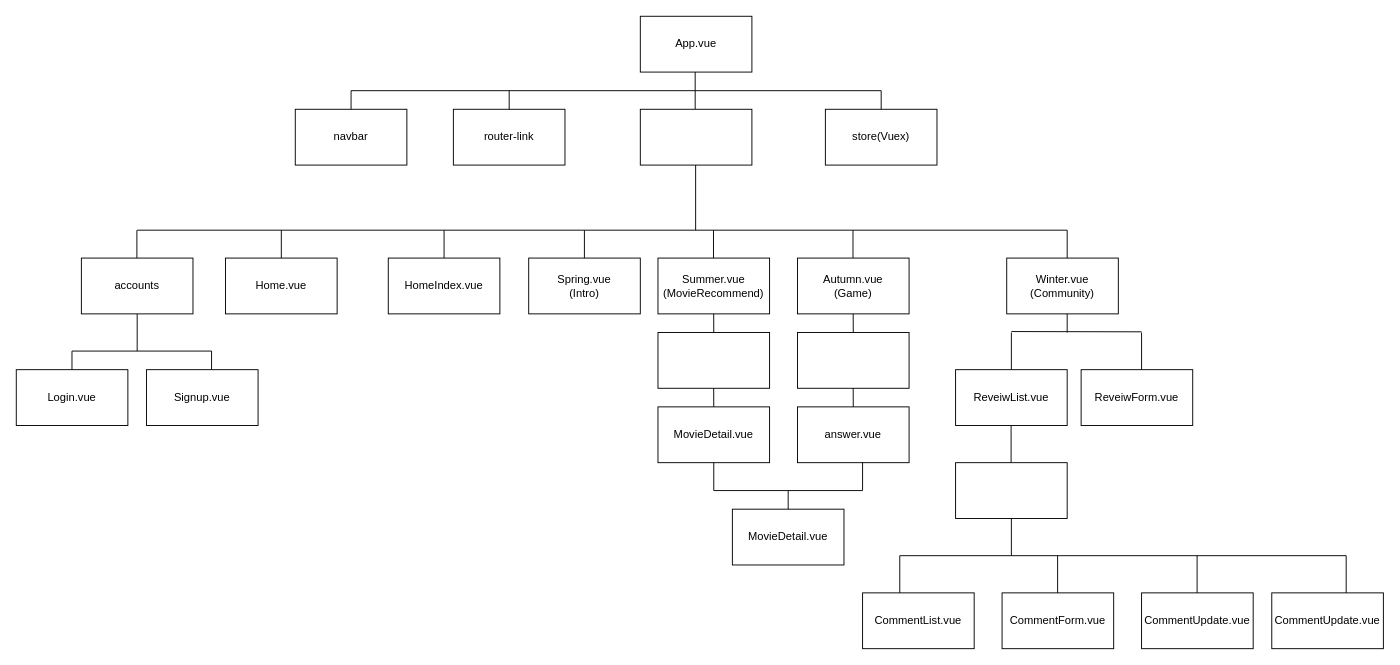
Image size: 1400x665. Some labels were removed from this diagram. The centre of each missing label's shape, as x and y in pixels:
MovieList.vue: (x=713, y=360)
quiz.vue: (x=853, y=360)
ReveiwDetail.vue: (x=1011, y=490)
router-view: (x=695, y=136)
